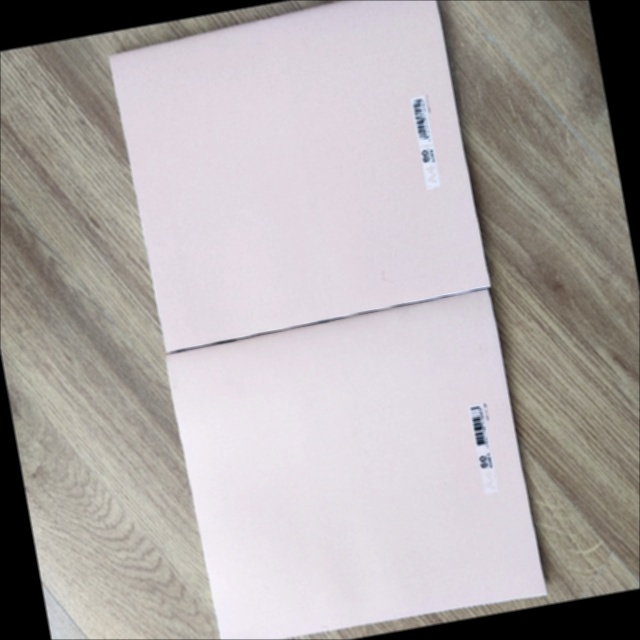60_sayfa_gipta_defter: (166, 289, 548, 639)
80_sayfa_gipta_defter: (108, 0, 491, 355)
